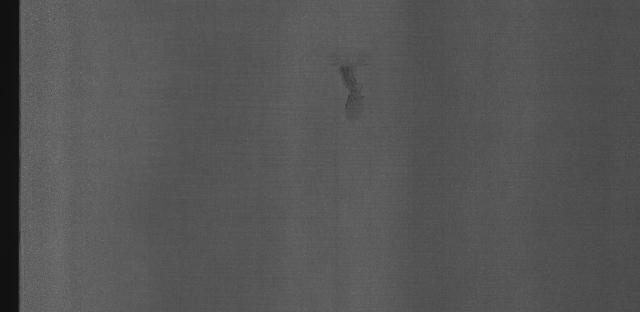water_spot: (312, 49, 384, 135)
